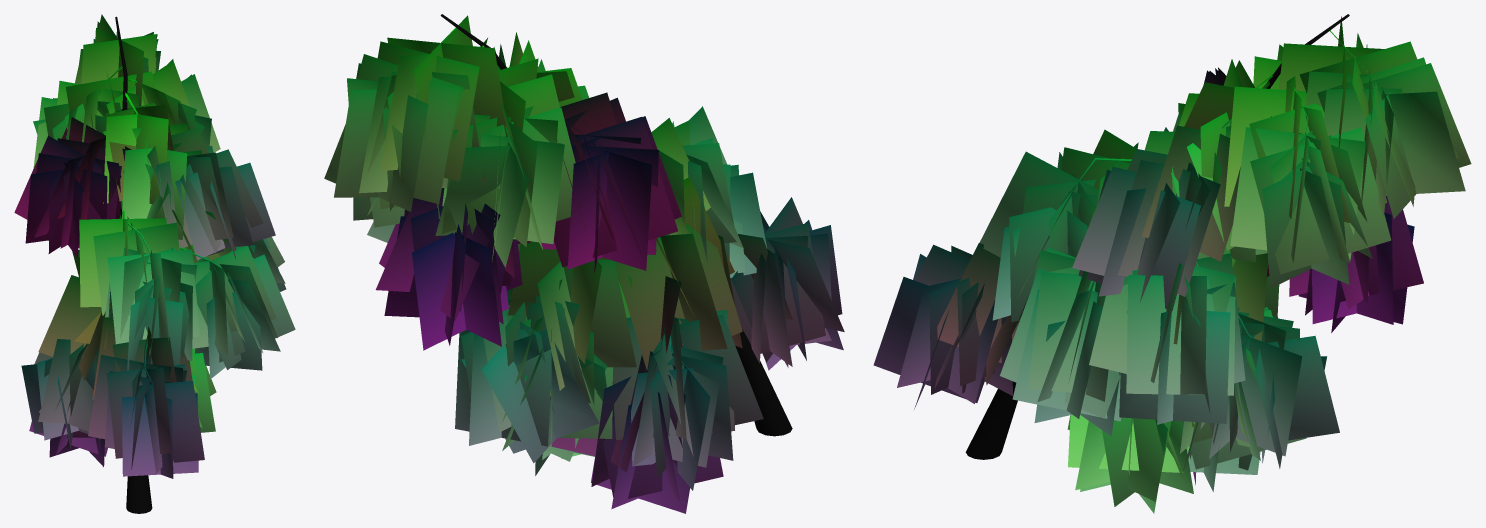
The model's file is M_P13_Tree_3.fbx.
3 renders of one model, left to right at view 1: azimuth 30°, elevation 25°; view 2: azimuth 150°, elevation 25°; view 3: azimuth 270°, elevation 25°, orthographic. The views are drawn at different scales.
Visible parts, largest first — view 1: Tree_3; view 2: Tree_3; view 3: Tree_3.
Part boxes in pixels (left/top/right/bottom): Tree_3: left=14, top=14, right=295, bottom=513; Tree_3: left=324, top=14, right=844, bottom=513; Tree_3: left=873, top=14, right=1471, bottom=513.
Size of the model in its own units: 387 by 531 by 554.
